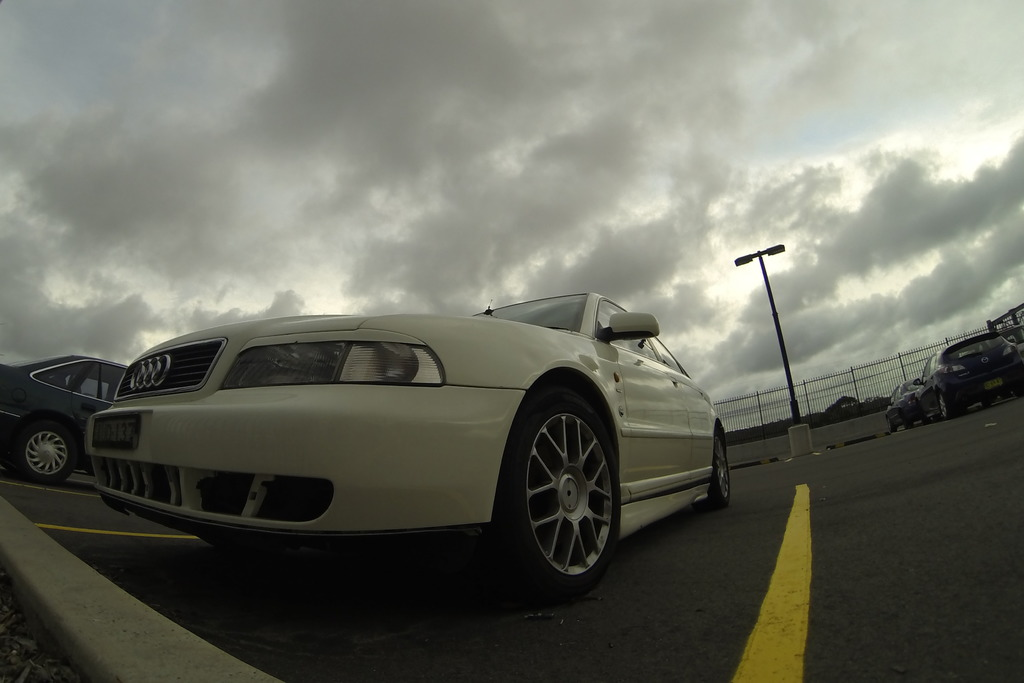Car: (85, 292, 729, 599), (0, 351, 129, 488), (919, 326, 1023, 419), (882, 378, 918, 429)
